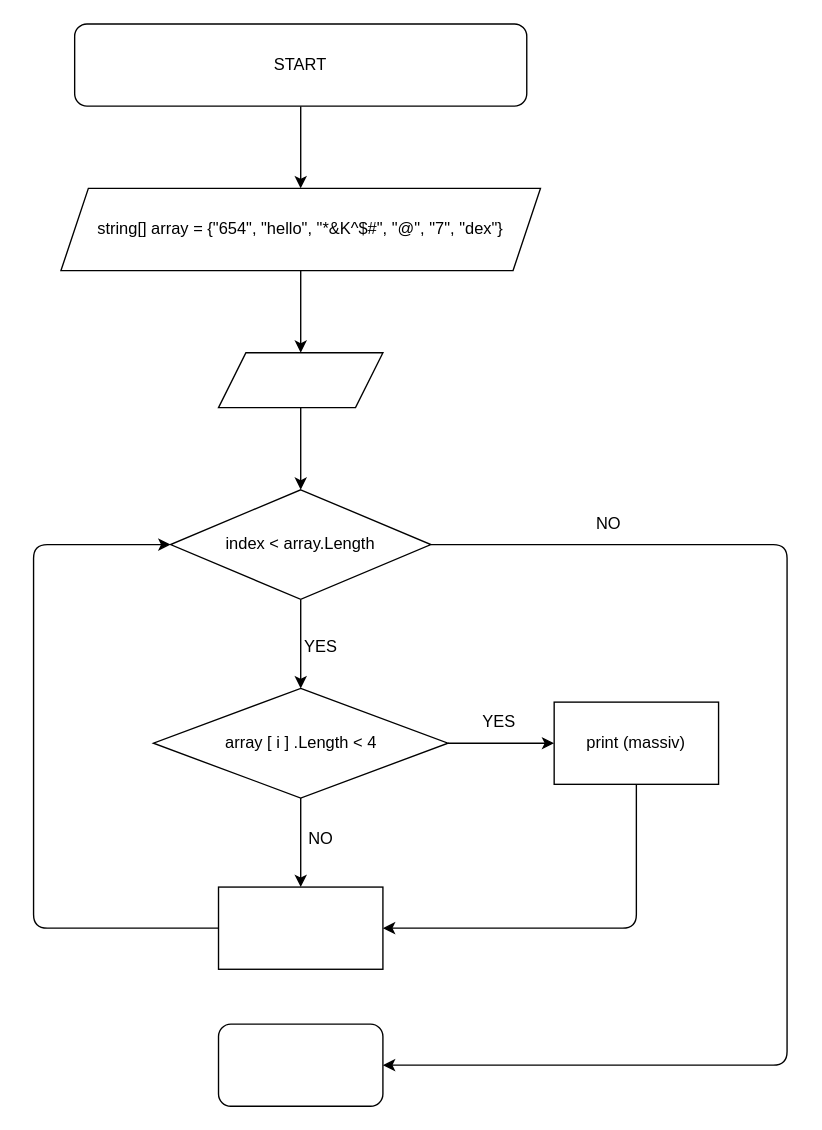
The diagram is 822 pixels wide and 1130 high, and some of its shapes have lost their labels. The centre of each missing label's shape, as x and y in pixels:
"EXIT" goes at pixel 300 1064.
"index = 0" goes at pixel 300 379.
"index = index + 1" goes at pixel 300 927.
